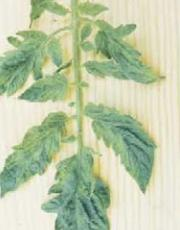Tomato leaf mosaic virus: (83, 104, 156, 192), (51, 147, 114, 230), (88, 17, 168, 82), (0, 30, 64, 102), (19, 74, 73, 104)
